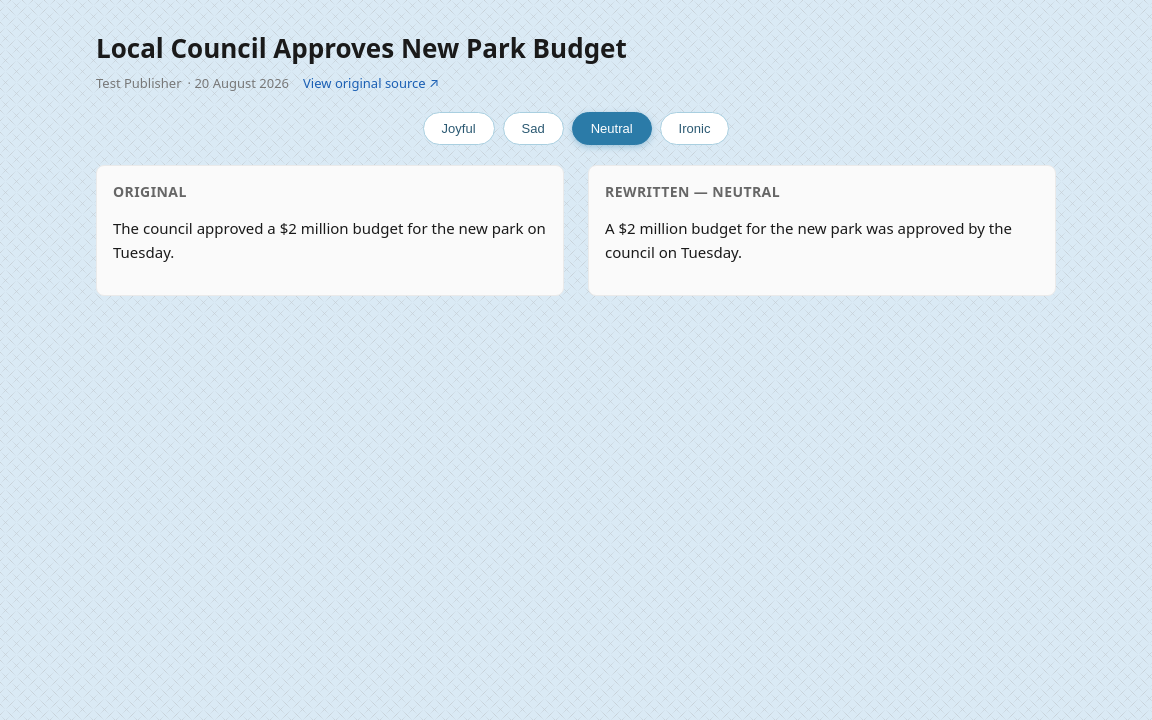
Test case: ArticleDetail › switches mood and fetches a fresh rewrite without refetching the article
The width and height of the screenshot is (1152, 720).
Check: the heading "Local Council Approves New Park Budget" is shown, box [96,30,627,66]
Check: the text "A $2 million budget for the new park was approved by the council on Tuesday." is shown, box [605,216,1039,264]
Click the button "joyful" at (459,128), box [423,112,495,145]
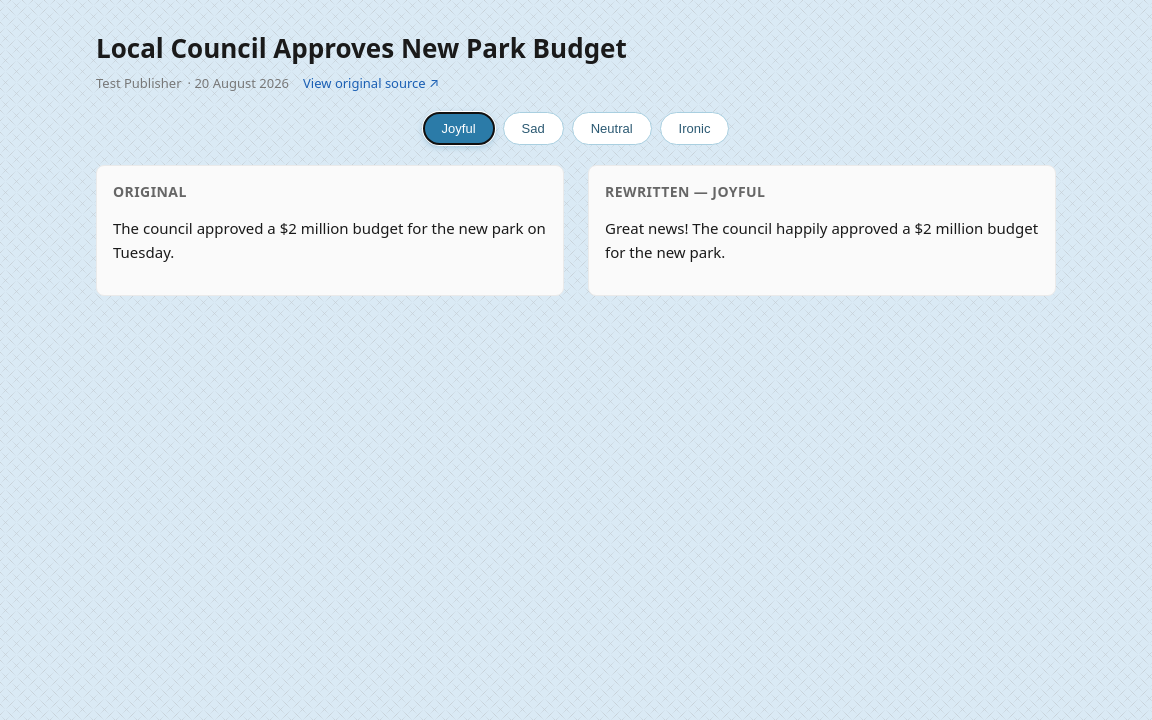
Check: the text "Great news! The council happily approved a $2 million budget for the new park." is shown, box [605,216,1039,264]
